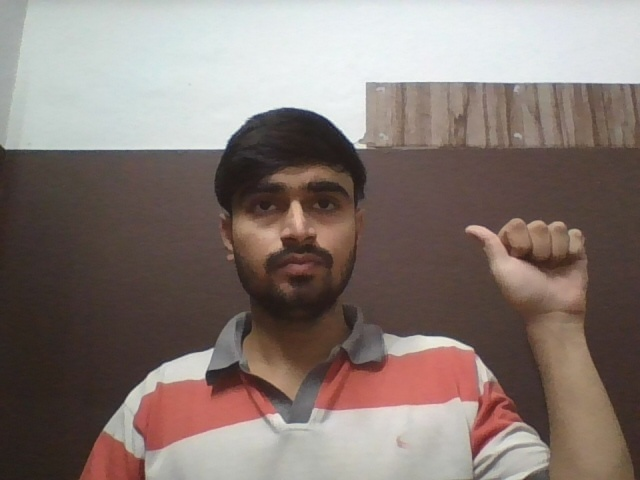A: (464, 217, 589, 312)
